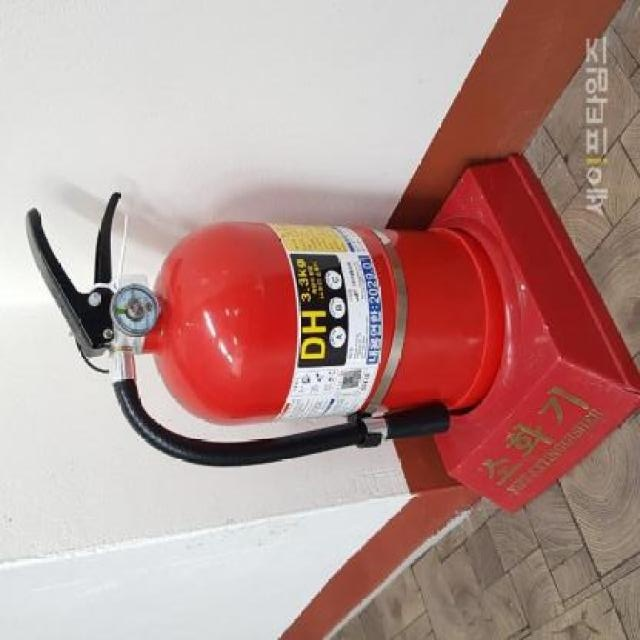fire extinguisher: (25, 192, 504, 468)
